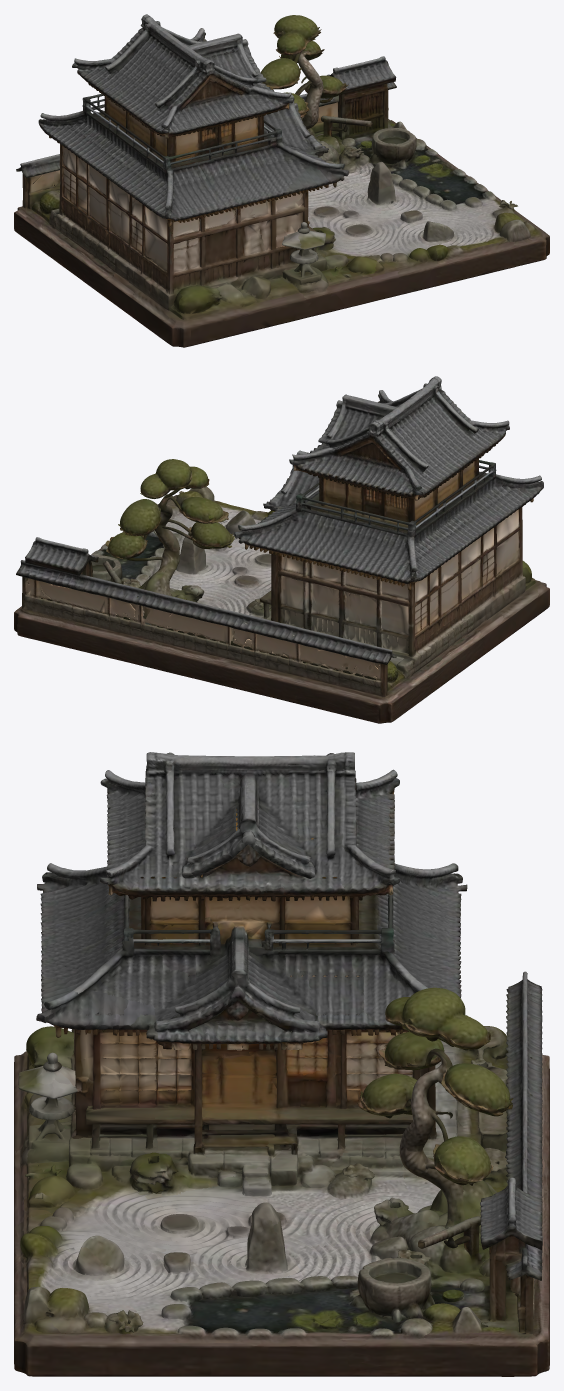
The model's file is japanese_house_meshopt.glb.
The picture shows the model from 3 angles, top to bottom: view 1: azimuth 30°, elevation 25°; view 2: azimuth 150°, elevation 25°; view 3: azimuth 270°, elevation 25°; orthographic projection. The views are drawn at different scales.
Visible parts, largest first — view 1: tripo_node_d6fe252b-1d70-42a4-80af-ebe0cdfe868b; view 2: tripo_node_d6fe252b-1d70-42a4-80af-ebe0cdfe868b; view 3: tripo_node_d6fe252b-1d70-42a4-80af-ebe0cdfe868b.
Boxes of the visible parts, bbox=[...] form: tripo_node_d6fe252b-1d70-42a4-80af-ebe0cdfe868b: bbox=[14, 14, 549, 347]; tripo_node_d6fe252b-1d70-42a4-80af-ebe0cdfe868b: bbox=[14, 376, 549, 723]; tripo_node_d6fe252b-1d70-42a4-80af-ebe0cdfe868b: bbox=[14, 752, 549, 1376].
Bounding box in the file's own units: 1 × 0.6119 × 0.7631.
Materials: 1 (1 with a texture image).
